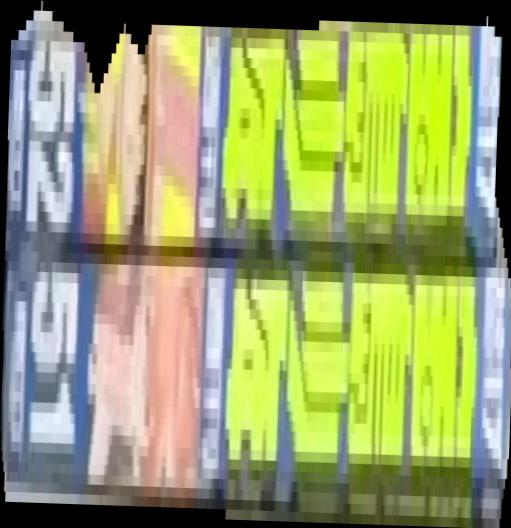flat: (1, 1, 511, 528)
